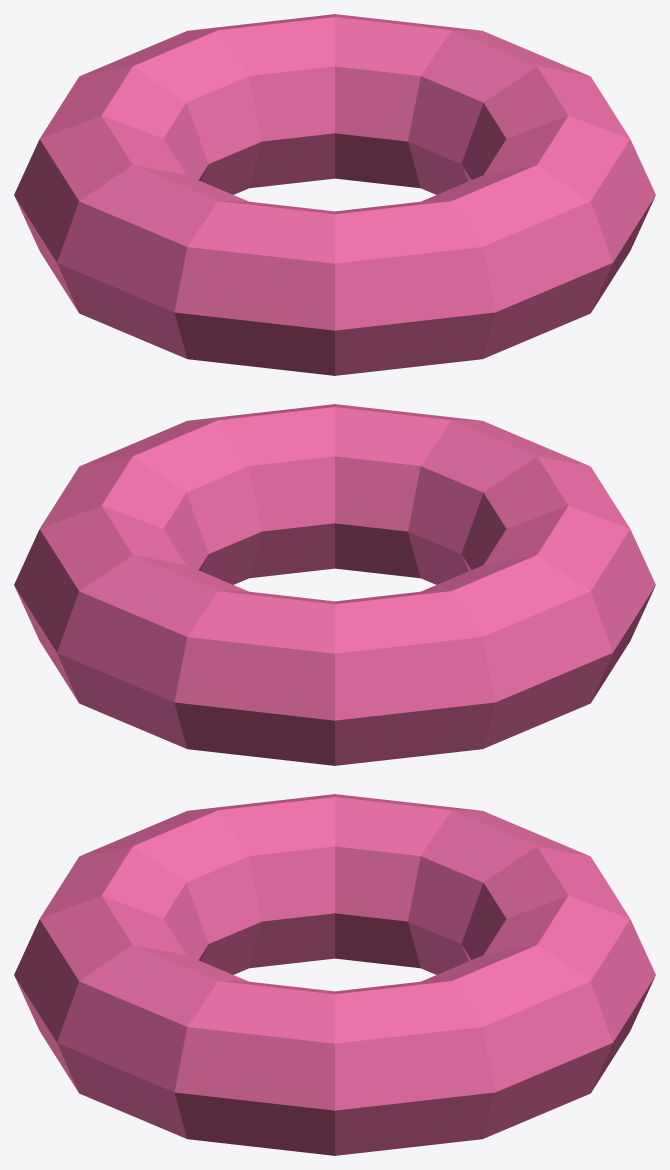
The model's file is inflatable_tube.glb.
3 renders of one model, top to bottom at view 1: azimuth 30°, elevation 25°; view 2: azimuth 150°, elevation 25°; view 3: azimuth 270°, elevation 25°, orthographic.
Parts seen in each view (by area): view 1: inflatable_tube; view 2: inflatable_tube; view 3: inflatable_tube.
Boxes of the visible parts, bbox=[...] form: inflatable_tube: bbox=[14, 14, 655, 375]; inflatable_tube: bbox=[14, 404, 655, 765]; inflatable_tube: bbox=[14, 794, 655, 1155].
Bounding box in the file's own units: 0.55 × 0.15 × 0.55.
